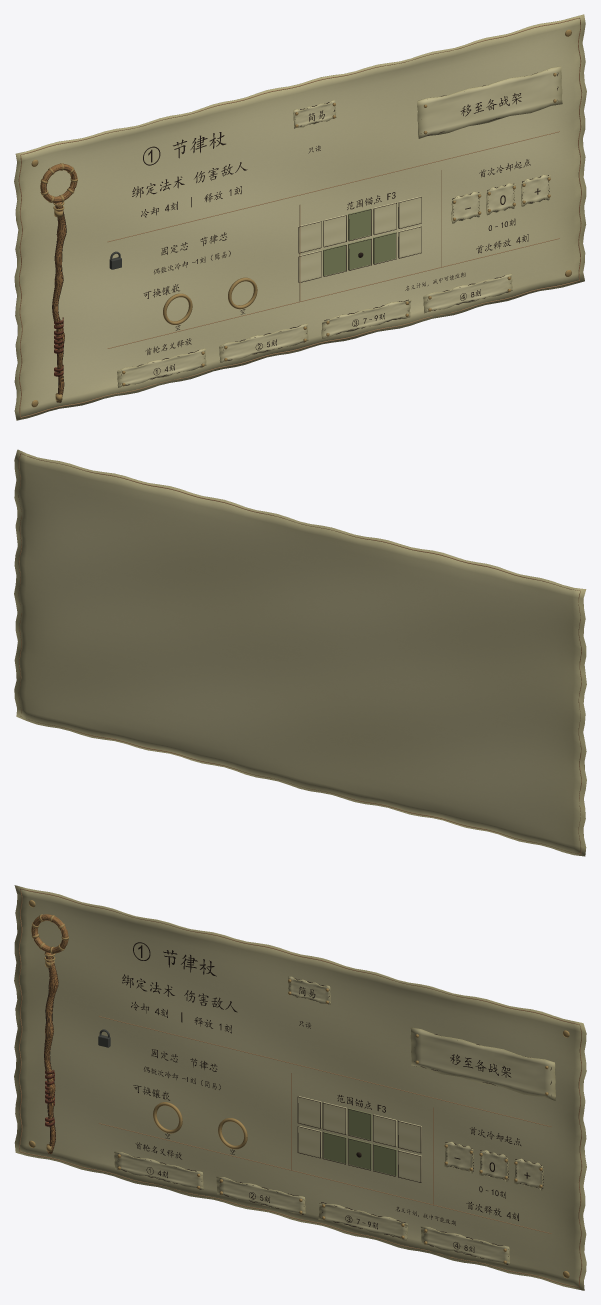
File: WM-06-configuration-parchment.glb
The picture shows the model from 3 angles, top to bottom: view 1: azimuth 30°, elevation 25°; view 2: azimuth 150°, elevation 25°; view 3: azimuth 330°, elevation 25°; orthographic projection.
Visible parts, largest first — view 1: WM06_Parchment_body.001, WM06_To_reserve_body.001, WM06_Torn_dark_edge.001, WM06_Timing_③ 7–9刻_body.001, WM06_Timing_① 4刻_body.001, WM06_Timing_④ 8刻_body.001, WM06_Timing_② 5刻_body.001, WM06_Information_dividers.001, WM06_Selected_staff_portrait__WM-04_Solid_wood_shaft.001, WM06_Selected_staff_portrait__WM-04_Long_carved_grain.001, WM06_Type_body.001, WM06_Start_+_body.001 (+13 smaller); view 2: WM06_Parchment_body.001, WM06_Torn_dark_edge.001; view 3: WM06_Parchment_body.001, WM06_To_reserve_body.001, WM06_Torn_dark_edge.001, WM06_Timing_① 4刻_body.001, WM06_Timing_③ 7–9刻_body.001, WM06_Timing_② 5刻_body.001, WM06_Timing_④ 8刻_body.001, WM06_Information_dividers.001, WM06_Selected_staff_portrait__WM-04_Solid_wood_shaft.001, WM06_Selected_staff_portrait__WM-04_Long_carved_grain.001, WM06_Type_body.001, WM06_Start_-_body.001 (+13 smaller).
Boxes of the visible parts, bbox=[...] form: WM06_Parchment_body.001: bbox=[14, 14, 586, 420]; WM06_To_reserve_body.001: bbox=[417, 66, 562, 138]; WM06_Torn_dark_edge.001: bbox=[18, 17, 582, 417]; WM06_Timing_③ 7–9刻_body.001: bbox=[321, 300, 411, 338]; WM06_Timing_① 4刻_body.001: bbox=[117, 348, 206, 387]; WM06_Timing_④ 8刻_body.001: bbox=[423, 273, 512, 313]; WM06_Timing_② 5刻_body.001: bbox=[219, 323, 308, 362]; WM06_Information_dividers.001: bbox=[107, 131, 559, 348]; WM06_Selected_staff_portrait__WM-04_Solid_wood_shaft.001: bbox=[52, 202, 66, 402]; WM06_Selected_staff_portrait__WM-04_Long_carved_grain.001: bbox=[52, 203, 66, 402]; WM06_Type_body.001: bbox=[293, 100, 336, 127]; WM06_Start_+_body.001: bbox=[521, 174, 550, 206]; WM06_Parchment_body.001: bbox=[14, 449, 586, 856]; WM06_Torn_dark_edge.001: bbox=[18, 453, 581, 854]; WM06_Parchment_body.001: bbox=[14, 885, 586, 1290]; WM06_To_reserve_body.001: bbox=[410, 1027, 555, 1100]; WM06_Torn_dark_edge.001: bbox=[18, 888, 582, 1287]; WM06_Timing_① 4刻_body.001: bbox=[114, 1151, 203, 1189]; WM06_Timing_③ 7–9刻_body.001: bbox=[318, 1203, 408, 1240]; WM06_Timing_② 5刻_body.001: bbox=[216, 1176, 305, 1214]; WM06_Timing_④ 8刻_body.001: bbox=[421, 1226, 510, 1264]; WM06_Information_dividers.001: bbox=[99, 1016, 551, 1233]; WM06_Selected_staff_portrait__WM-04_Solid_wood_shaft.001: bbox=[44, 952, 58, 1153]; WM06_Selected_staff_portrait__WM-04_Long_carved_grain.001: bbox=[44, 952, 58, 1153]; WM06_Type_body.001: bbox=[288, 976, 330, 1004]; WM06_Start_-_body.001: bbox=[444, 1141, 473, 1173].
Bounding box in the file's own units: 2.46 × 1.11 × 0.0642.
Materials: 8 (3 with a texture image).
